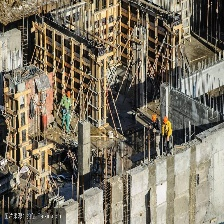helmet: (66, 90, 72, 99), (152, 114, 158, 123), (163, 116, 169, 124)
person: (150, 112, 164, 160), (61, 90, 74, 134), (163, 116, 174, 157)
